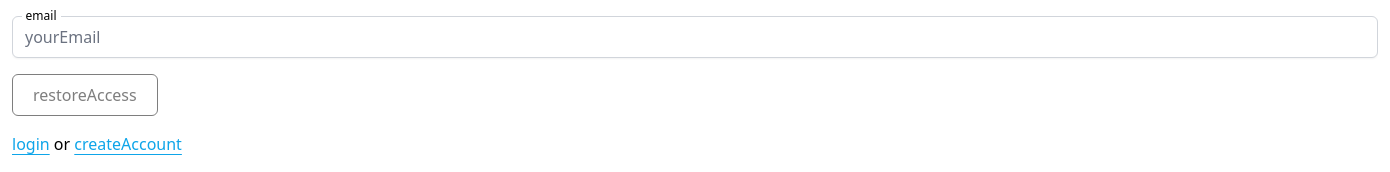
Test: Forget form › Submit (error)
Step 1. Type "wrong_email_str" into the field → [695, 37], box [12,16,1378,58]
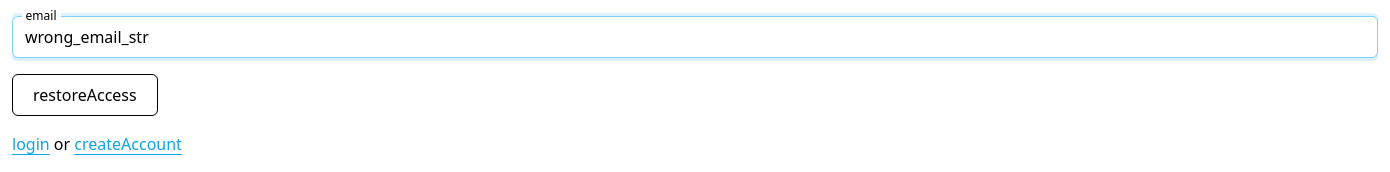
Expected: the button "restoreAccess" is enabled, [12,74,158,116]
